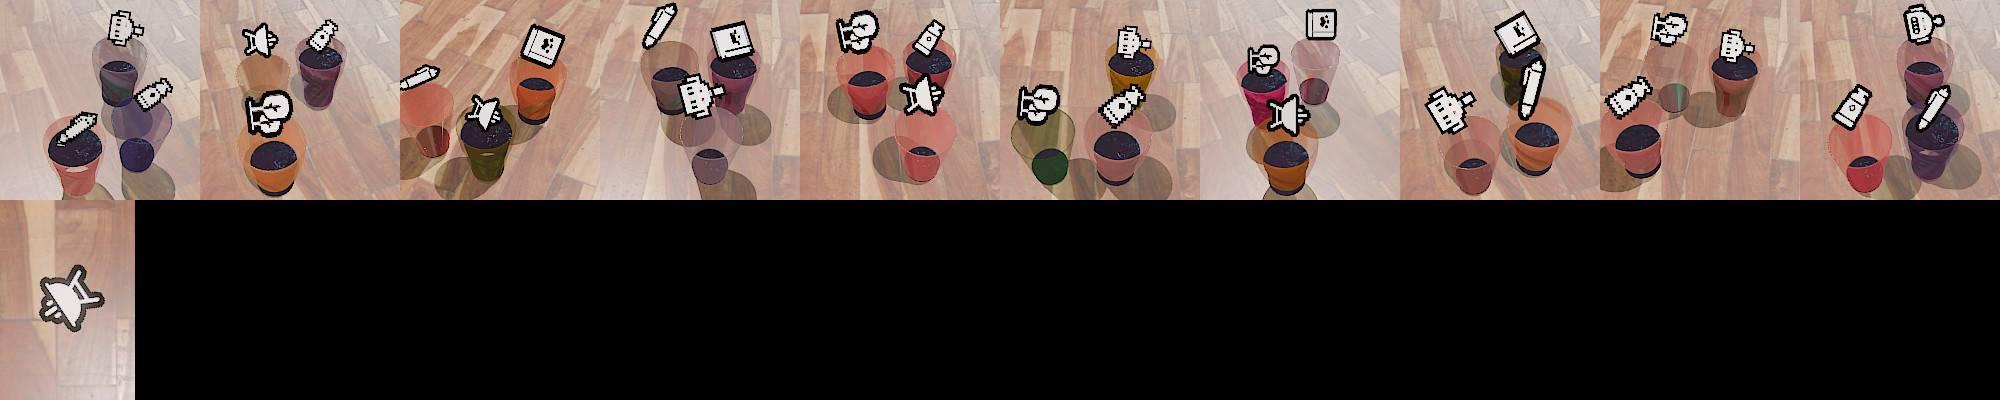icon: (37, 262, 106, 331), (1425, 84, 1478, 136), (244, 89, 293, 138), (1492, 10, 1541, 60), (1605, 73, 1654, 120), (519, 22, 568, 68), (1265, 90, 1311, 138), (676, 73, 723, 118), (835, 10, 880, 56), (709, 20, 756, 64), (1830, 83, 1872, 131), (1097, 84, 1145, 126), (899, 73, 944, 116), (1517, 57, 1546, 122), (1018, 83, 1061, 124), (1913, 85, 1952, 131), (642, 3, 679, 50), (1903, 4, 1945, 45), (241, 20, 279, 60), (1651, 10, 1690, 47), (911, 18, 948, 57), (134, 75, 175, 111), (57, 111, 99, 145), (107, 9, 144, 47), (1718, 28, 1756, 64), (466, 94, 500, 132), (399, 64, 441, 93), (1246, 43, 1282, 78), (306, 18, 339, 54), (1116, 24, 1149, 59), (1306, 8, 1338, 41)
